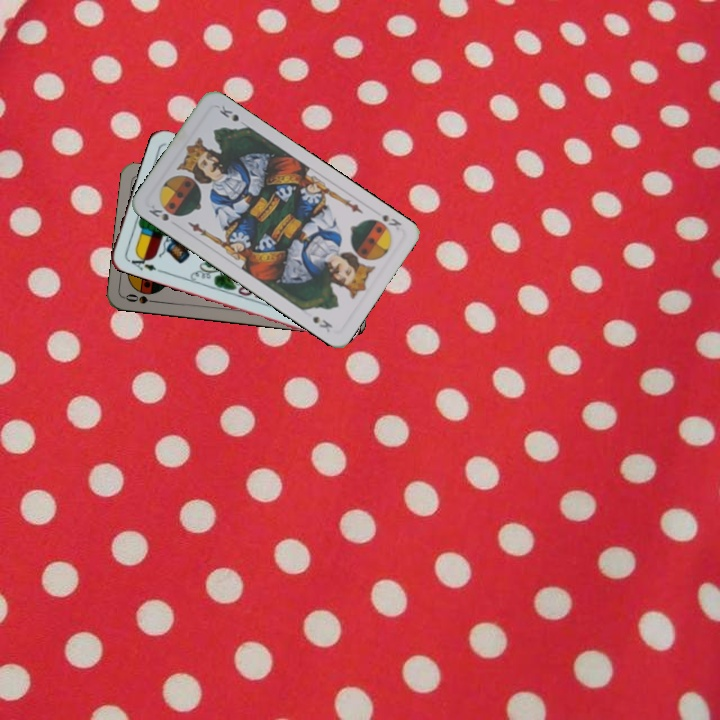EA: (124, 250, 159, 273)
SK: (144, 201, 171, 224), (377, 210, 404, 233)
SO: (121, 290, 162, 306)
